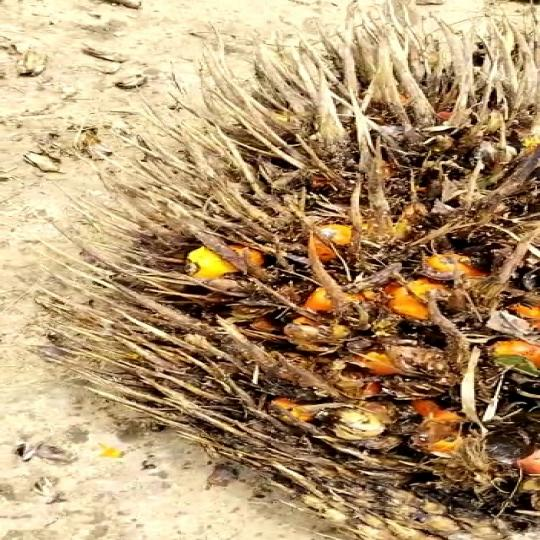terlalu masak: (47, 4, 540, 540)
